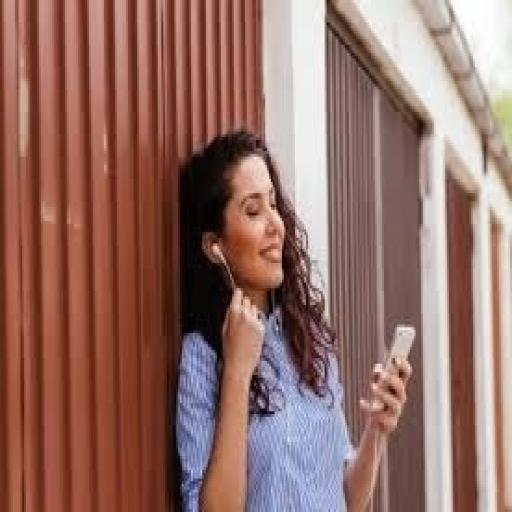listening_to_music: (172, 126, 418, 509)
